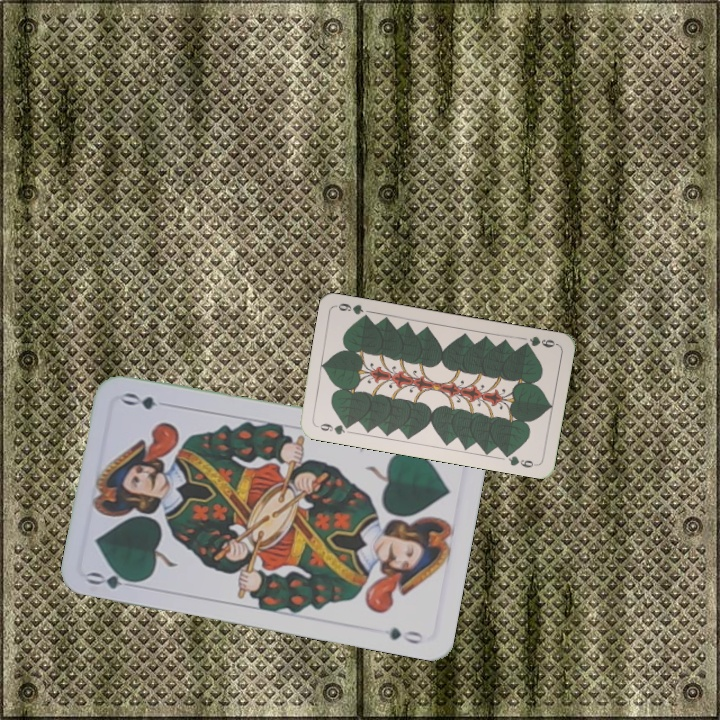G9: (518, 332, 560, 350), (313, 419, 354, 437)
GO: (83, 566, 143, 592)
